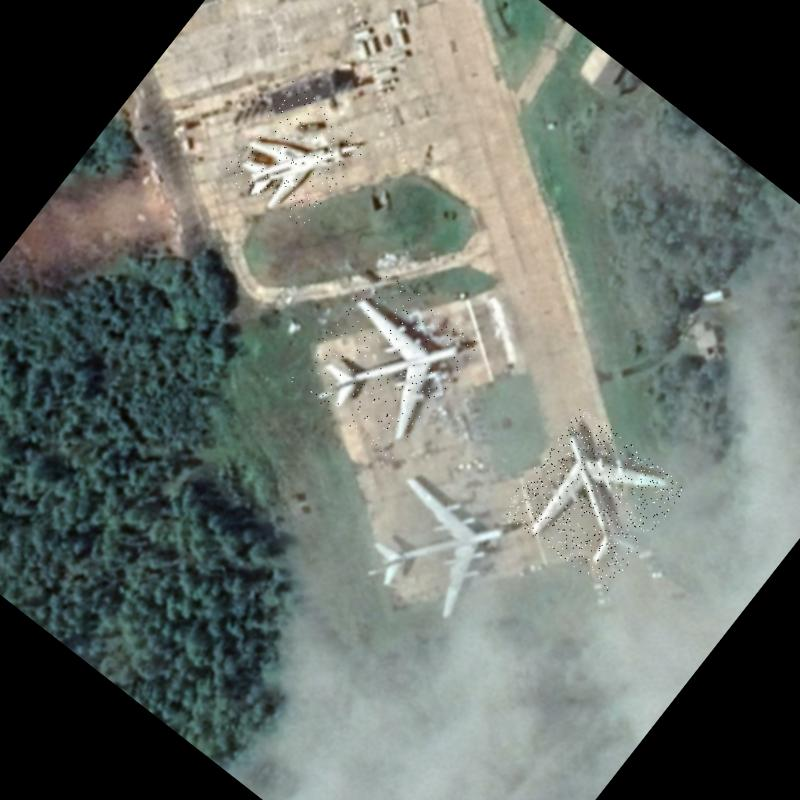A12: (220, 82, 370, 235)
A17: (287, 262, 482, 461), (500, 406, 687, 594), (338, 452, 522, 636)
